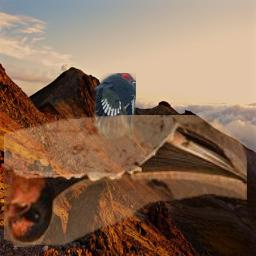Swallow: (4, 115, 247, 247)
Woodpecker: (93, 73, 136, 139)
